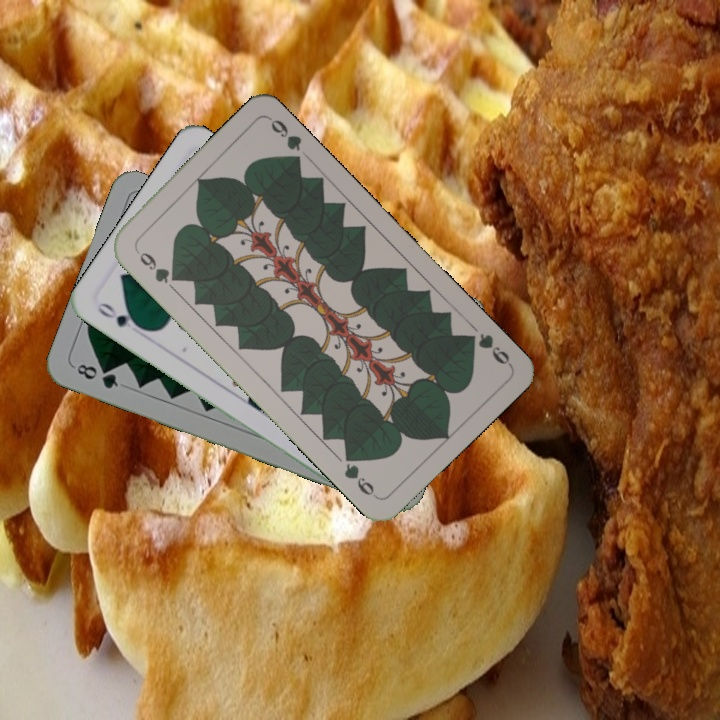G8: (70, 360, 121, 392)
G9: (131, 244, 182, 286), (460, 329, 514, 368)
GO: (93, 298, 147, 333)
